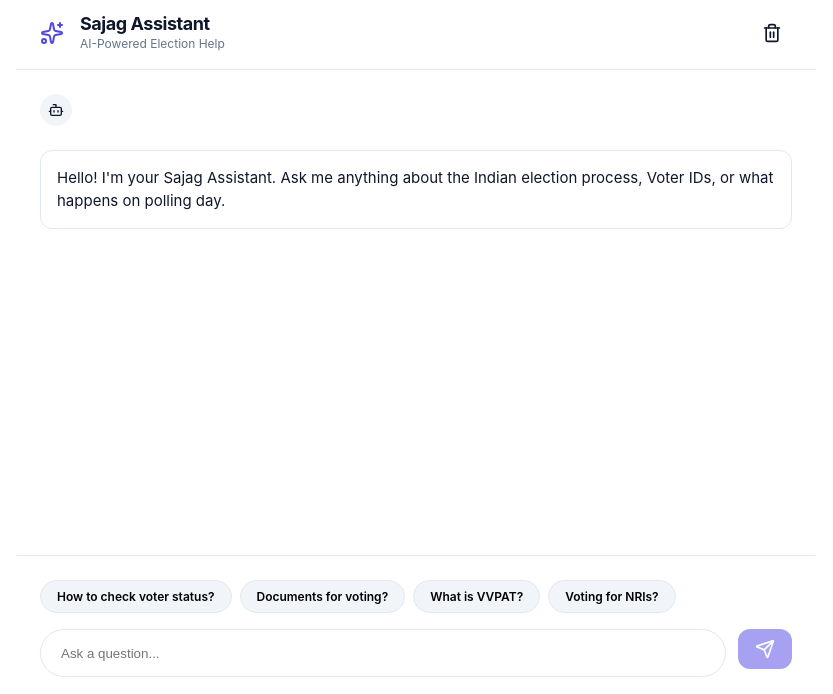
Test case: Assistant Flow Integration › handles network failure gracefully
Type "Will this fail?" into the field with placeholder "Ask a question...".
click(383, 653); type("Will this fail?")  # box [40,629,726,677]
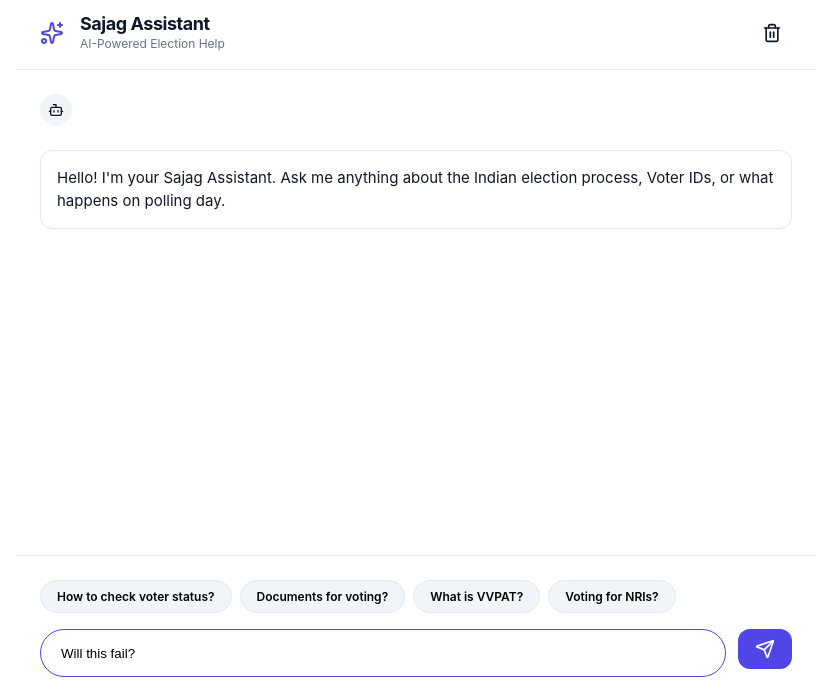
Press Enter in the field with placeholder "Ask a question...", box [40,629,726,677]
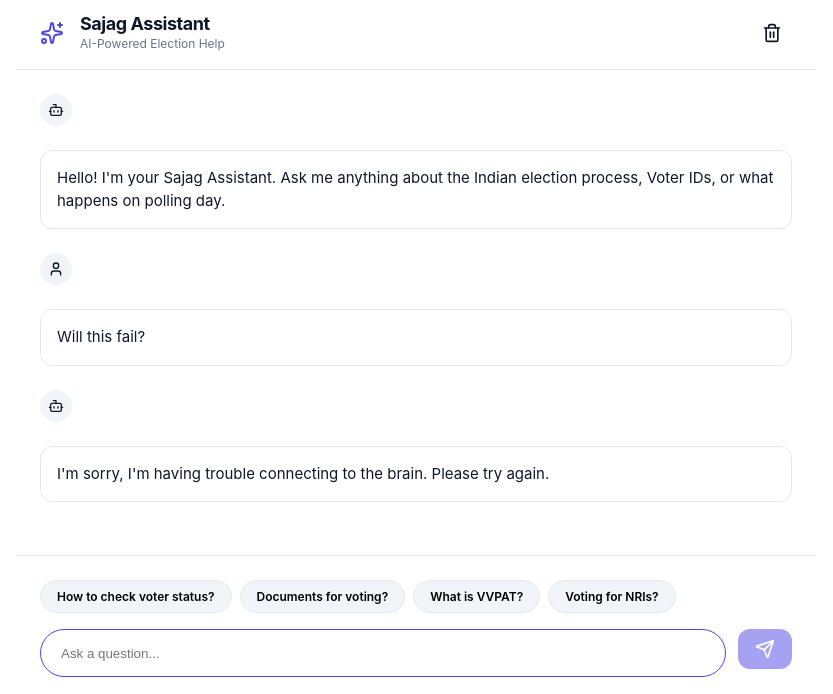
expect the text "I'm sorry, I'm having trouble connecting" is shown: met, box [57,464,549,482]
